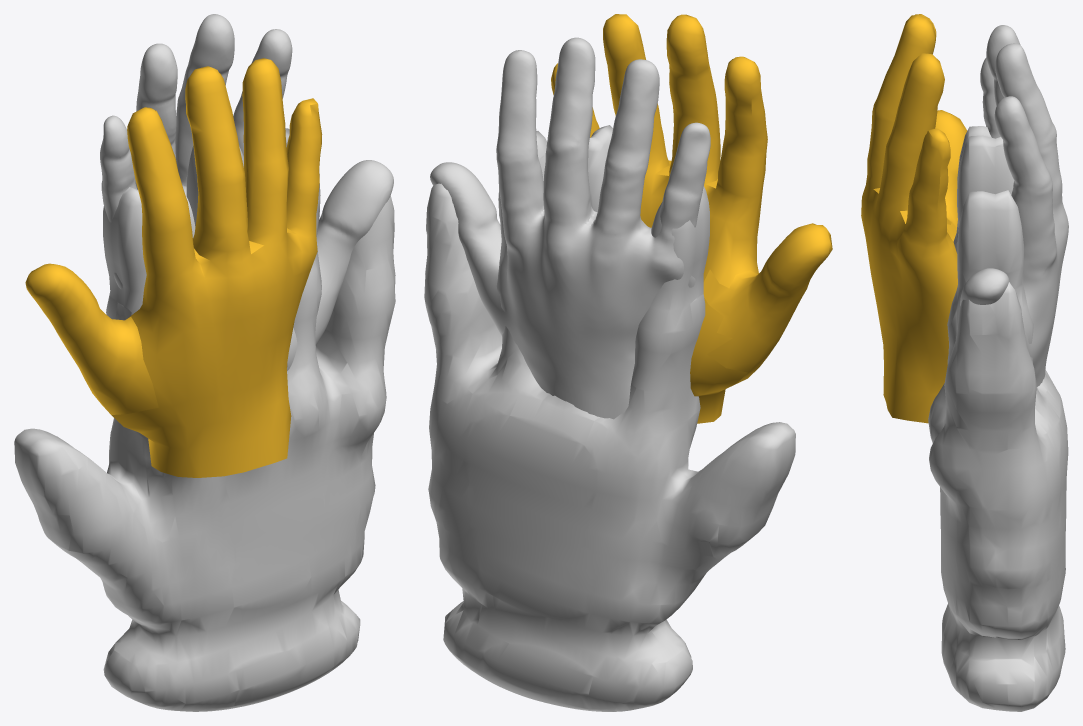
The model's file is armR.fbx.
3 renders of one model, left to right at view 1: azimuth 30°, elevation 25°; view 2: azimuth 150°, elevation 25°; view 3: azimuth 270°, elevation 25°, orthographic. The views are drawn at different scales.
Parts seen in each view (by area): view 1: Mball.025, Plane, 16834_hand_v1_NEW; view 2: Mball.025, 16834_hand_v1_NEW, Plane; view 3: Mball.025, Plane, 16834_hand_v1_NEW.
Part boxes in pixels (<box>): Mball.025: <box>14,128,395,711</box>; Plane: <box>25,58,322,477</box>; 16834_hand_v1_NEW: <box>100,14,393,370</box>; Mball.025: <box>424,125,795,711</box>; 16834_hand_v1_NEW: <box>430,37,710,419</box>; Plane: <box>551,14,832,423</box>; Mball.025: <box>928,126,1068,711</box>; Plane: <box>861,14,967,423</box>; 16834_hand_v1_NEW: <box>947,25,1068,386</box>.
Size of the model in its own units: 2002 by 3386 by 1003.
